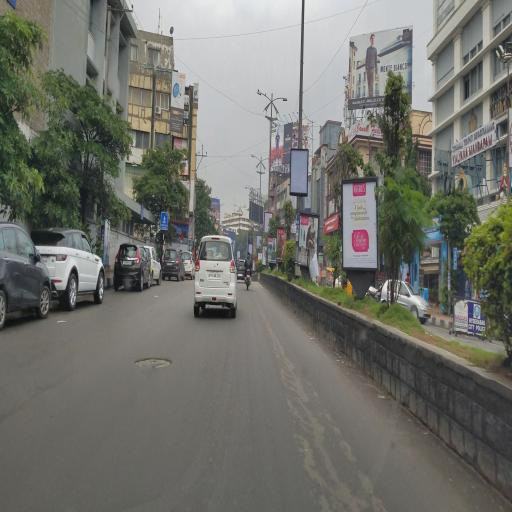street_light_0: (251, 86, 275, 112), (270, 87, 290, 113), (248, 149, 262, 172)
